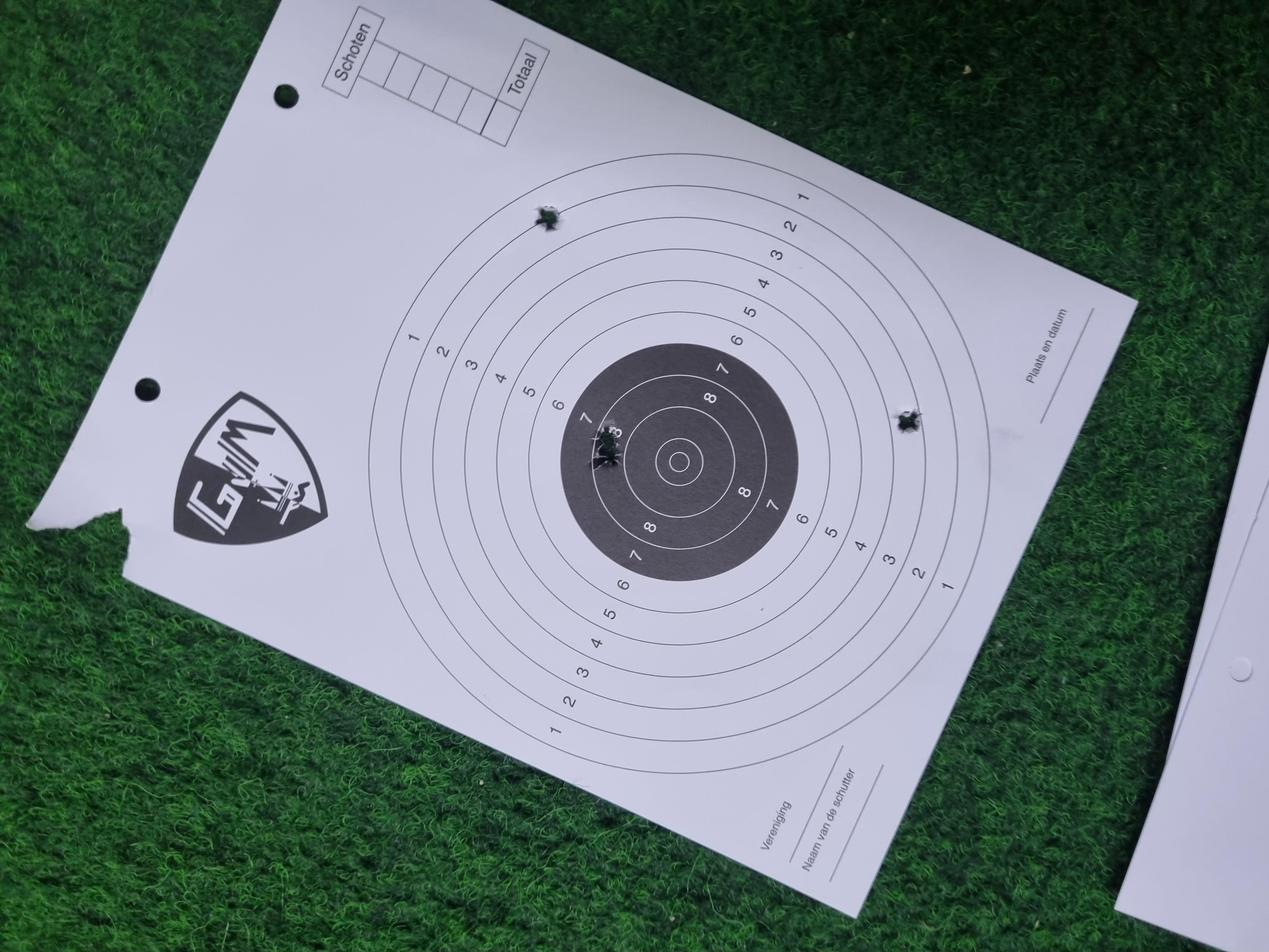hole: (640, 443, 673, 469), (690, 669, 723, 692), (675, 442, 704, 467), (960, 401, 995, 421)
